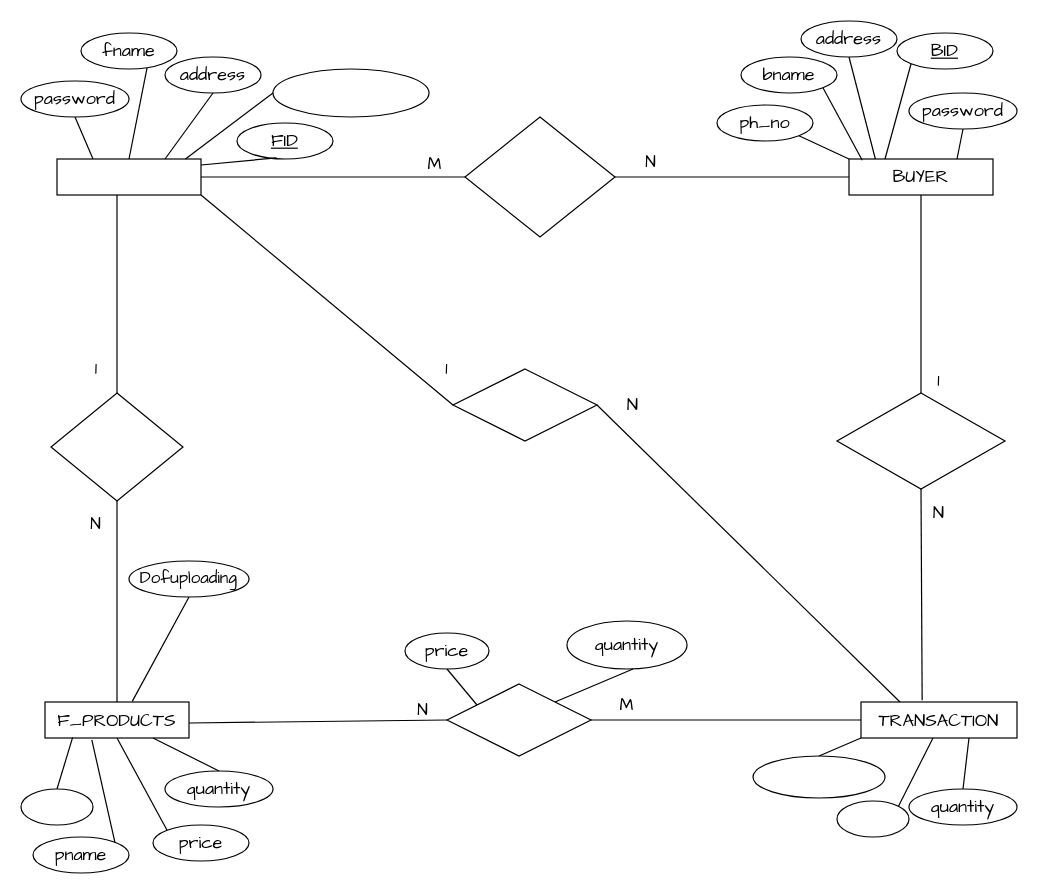
The diagram is 1038 pixels wide and 894 high, and some of its shapes have lost their labels. Here are the shapes that lost their labels. From the top down, the box of each, then its label:
(272, 68, 429, 117): acc no of farmer
(56, 158, 201, 195): FARMER
(464, 116, 615, 237): search by city
(452, 368, 597, 441): Payment
(50, 392, 183, 501): uploads and sells
(836, 392, 1005, 489): makes payment
(446, 683, 591, 756): Purchase
(752, 755, 885, 798): total_price
(20, 788, 93, 825): PID
(836, 800, 909, 837): TID
